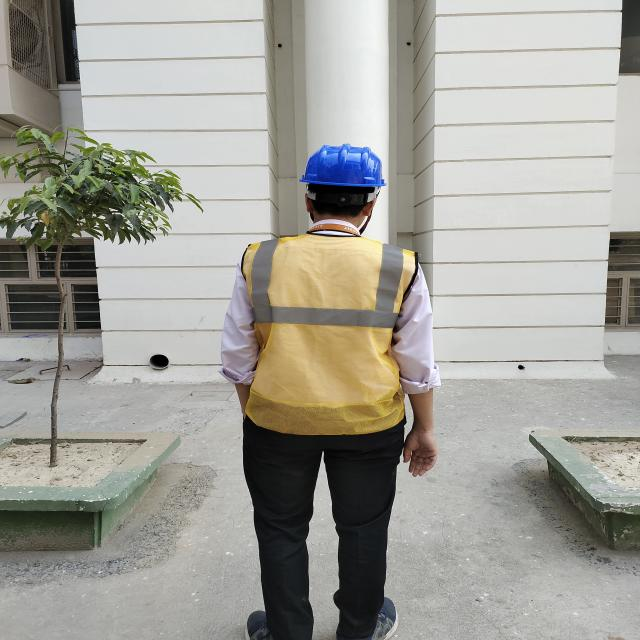safe: (227, 143, 432, 640)
